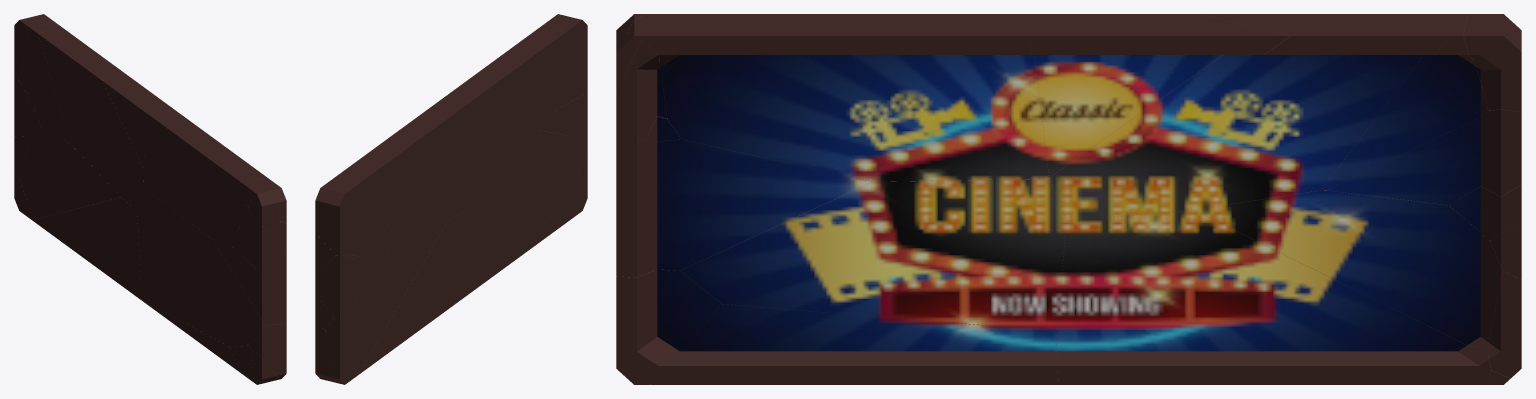
File: Bigass_Screen_DEST.fbx
3 views of the same model, side by side, from view 1: azimuth 30°, elevation 25°; view 2: azimuth 150°, elevation 25°; view 3: azimuth 270°, elevation 25° (orthographic). The views are drawn at different scales.
Parts seen in each view (by area): view 1: polySurface270_cell.023, polySurface270_cell.024, polySurface270_cell.017, polySurface270_cell.021, polySurface270_cell.020, polySurface270_cell.001, polySurface270_cell.009, polySurface270_cell.008, polySurface270_cell.003, polySurface270_cell.015, polySurface270_cell.014, polySurface270_cell.022 (+8 smaller); view 2: polySurface270_cell.023, polySurface270_cell.024, polySurface270_cell.017, polySurface270_cell.021, polySurface270_cell.020, polySurface270_cell.009, polySurface270_cell.008, polySurface270_cell.018, polySurface270_cell.014, polySurface270_cell.001, polySurface270_cell.003, polySurface270_cell.022 (+9 smaller); view 3: polySurface270_cell.024, polySurface270_cell.021, polySurface270_cell.017, polySurface270_cell.023, polySurface270_cell.016, polySurface270_cell.020, polySurface270_cell.001, polySurface270_cell.009, polySurface270_cell.008, polySurface270_cell.007, polySurface270_cell.015, polySurface270_cell.018 (+6 smaller).
Part boxes in pixels (x1=…): polySurface270_cell.023: x1=137, y1=187, x2=265, y2=346; polySurface270_cell.024: x1=143, y1=109, x2=267, y2=245; polySurface270_cell.017: x1=38, y1=25, x2=143, y2=210; polySurface270_cell.021: x1=33, y1=197, x2=141, y2=299; polySurface270_cell.020: x1=20, y1=126, x2=121, y2=219; polySurface270_cell.001: x1=214, y1=241, x2=286, y2=325; polySurface270_cell.009: x1=102, y1=57, x2=172, y2=168; polySurface270_cell.008: x1=20, y1=22, x2=70, y2=144; polySurface270_cell.003: x1=230, y1=210, x2=284, y2=272; polySurface270_cell.015: x1=248, y1=323, x2=286, y2=379; polySurface270_cell.014: x1=14, y1=74, x2=41, y2=136; polySurface270_cell.022: x1=141, y1=300, x2=241, y2=373; polySurface270_cell.023: x1=463, y1=130, x2=587, y2=294; polySurface270_cell.024: x1=450, y1=24, x2=573, y2=178; polySurface270_cell.017: x1=335, y1=133, x2=469, y2=242; polySurface270_cell.021: x1=358, y1=213, x2=466, y2=374; polySurface270_cell.020: x1=346, y1=221, x2=446, y2=373; polySurface270_cell.009: x1=379, y1=93, x2=472, y2=160; polySurface270_cell.008: x1=332, y1=177, x2=396, y2=259; polySurface270_cell.018: x1=315, y1=180, x2=354, y2=255; polySurface270_cell.014: x1=315, y1=255, x2=367, y2=317; polySurface270_cell.001: x1=539, y1=92, x2=587, y2=139; polySurface270_cell.003: x1=556, y1=45, x2=587, y2=110; polySurface270_cell.022: x1=467, y1=213, x2=567, y2=295; polySurface270_cell.024: x1=661, y1=14, x2=1048, y2=181; polySurface270_cell.021: x1=1056, y1=210, x2=1491, y2=384; polySurface270_cell.017: x1=1049, y1=14, x2=1448, y2=220; polySurface270_cell.023: x1=680, y1=178, x2=1066, y2=331; polySurface270_cell.016: x1=651, y1=304, x2=1058, y2=384; polySurface270_cell.020: x1=1194, y1=190, x2=1503, y2=348; polySurface270_cell.001: x1=616, y1=139, x2=872, y2=277; polySurface270_cell.009: x1=1029, y1=14, x2=1289, y2=177; polySurface270_cell.008: x1=1321, y1=14, x2=1487, y2=190; polySurface270_cell.007: x1=1327, y1=109, x2=1521, y2=205; polySurface270_cell.015: x1=616, y1=269, x2=721, y2=384; polySurface270_cell.018: x1=1463, y1=14, x2=1521, y2=112.
Size of the model in its own units: 98.32 by 728 by 1710.
